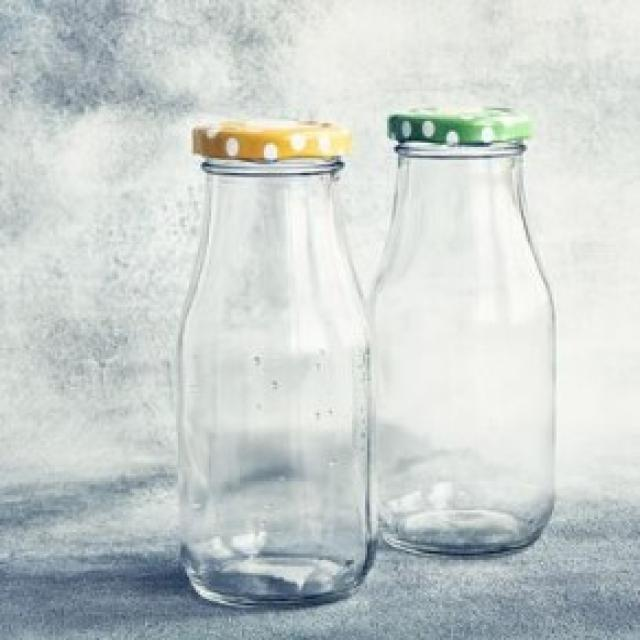electronic: (173, 99, 560, 613)
